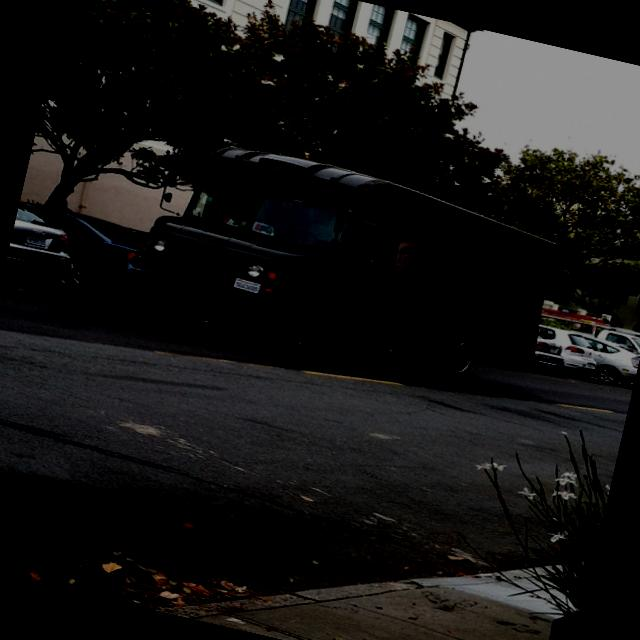Vehicle: (120, 124, 567, 411), (30, 205, 154, 302), (0, 201, 84, 296), (535, 304, 640, 355), (530, 324, 602, 382), (574, 334, 640, 388), (530, 334, 569, 368), (125, 226, 148, 238)
